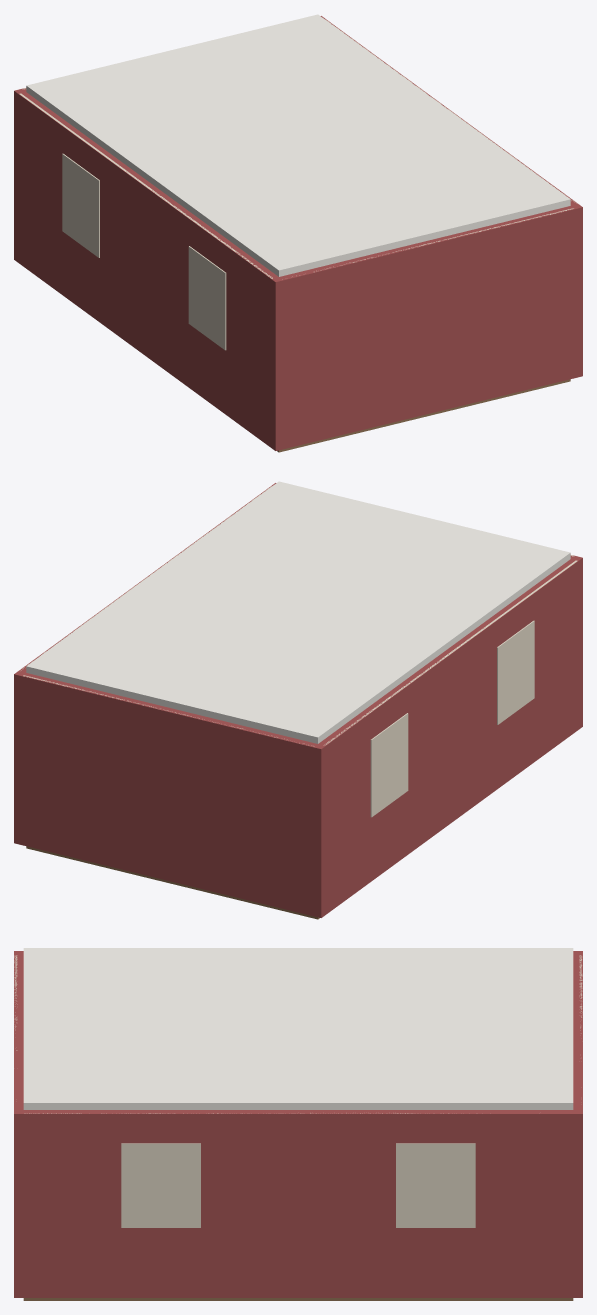
File: billard-room.glb
3 views of the same model, one above another, from view 1: azimuth 30°, elevation 25°; view 2: azimuth 150°, elevation 25°; view 3: azimuth 270°, elevation 25° (orthographic). The views are drawn at different scales.
Visible parts, largest first — view 1: Ceiling-col, Wall_South-col, Wall_West-col, WinWest1_Frame, WinWest2_Frame, Wall_North-col, Floor-col, Crown_West; view 2: Ceiling-col, Wall_North-col, Wall_West-col, WinWest2_Frame, WinWest1_Frame, Wall_South-col, Floor-col, Crown_West; view 3: Wall_East-col, Ceiling-col, WinEast1_Frame, WinEast2_Frame, Wall_North-col, Wall_South-col, Floor-col.
Part boxes in pixels (x1=…): Ceiling-col: x1=26, y1=14, x2=570, y2=276; Wall_South-col: x1=271, y1=204, x2=582, y2=450; Wall_West-col: x1=18, y1=92, x2=278, y2=447; WinWest1_Frame: x1=188, y1=246, x2=226, y2=350; WinWest2_Frame: x1=62, y1=153, x2=99, y2=257; Wall_North-col: x1=14, y1=16, x2=325, y2=262; Floor-col: x1=277, y1=379, x2=570, y2=452; Crown_West: x1=19, y1=93, x2=272, y2=278; Ceiling-col: x1=26, y1=481, x2=570, y2=743; Wall_North-col: x1=14, y1=671, x2=325, y2=917; Wall_West-col: x1=318, y1=559, x2=578, y2=914; WinWest2_Frame: x1=370, y1=713, x2=408, y2=817; WinWest1_Frame: x1=497, y1=620, x2=534, y2=724; Wall_South-col: x1=271, y1=483, x2=582, y2=729; Floor-col: x1=26, y1=846, x2=319, y2=919; Crown_West: x1=323, y1=560, x2=577, y2=745; Wall_East-col: x1=23, y1=1110, x2=573, y2=1297; Ceiling-col: x1=23, y1=948, x2=573, y2=1109; WinEast1_Frame: x1=121, y1=1143, x2=200, y2=1227; WinEast2_Frame: x1=396, y1=1143, x2=475, y2=1227; Wall_North-col: x1=573, y1=951, x2=582, y2=1297; Wall_South-col: x1=14, y1=951, x2=23, y2=1297; Floor-col: x1=23, y1=1298, x2=573, y2=1300.
Size of the model in its own units: 5.94 by 3.34 by 8.7.
